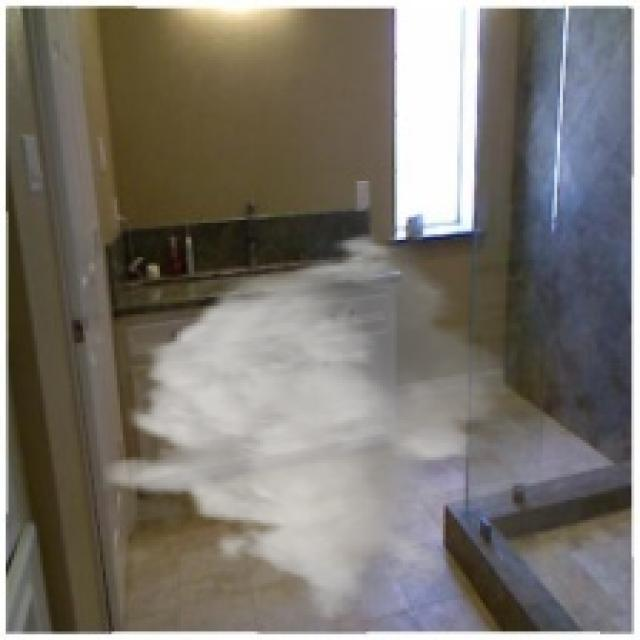Smoke: (97, 231, 520, 623)
